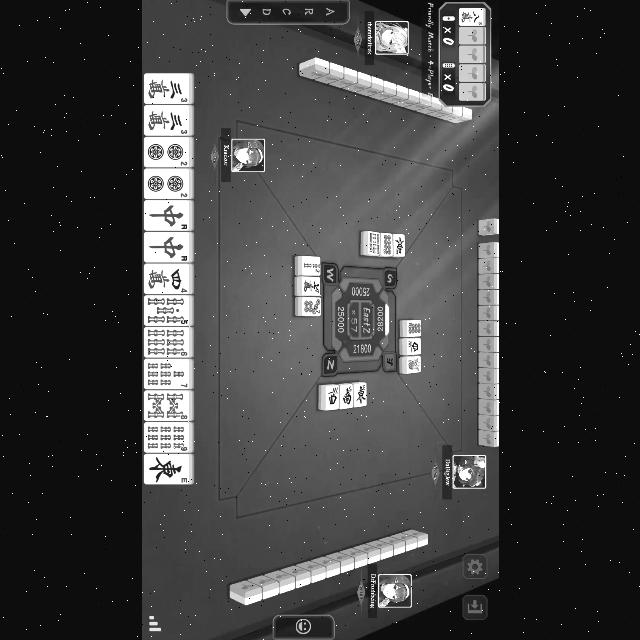1s: (408, 357, 420, 371)
2p: (146, 170, 188, 198), (146, 140, 188, 167)
2s: (302, 258, 321, 272)
3m: (144, 107, 188, 135), (146, 75, 188, 102)
4m: (146, 265, 188, 293)
5s: (144, 298, 188, 324)
6s: (145, 329, 189, 357), (368, 233, 380, 255)
7m: (302, 278, 320, 294)
7p: (303, 299, 321, 315)
7s: (146, 362, 188, 388)
8m: (458, 9, 484, 25)
8p: (382, 233, 392, 254), (407, 322, 421, 336)
8s: (146, 392, 190, 422)
9s: (146, 424, 188, 451)
chun: (146, 232, 188, 262), (146, 203, 188, 231)
nan: (341, 384, 353, 408)
sha: (326, 385, 338, 409), (406, 338, 422, 354)
tou: (146, 455, 188, 483), (355, 383, 367, 407), (394, 234, 404, 256)
